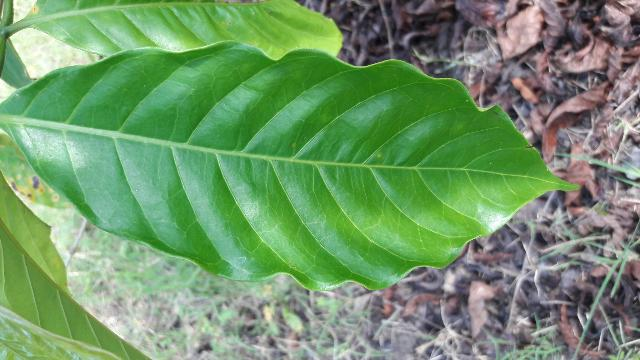healthy: (0, 40, 585, 292)
